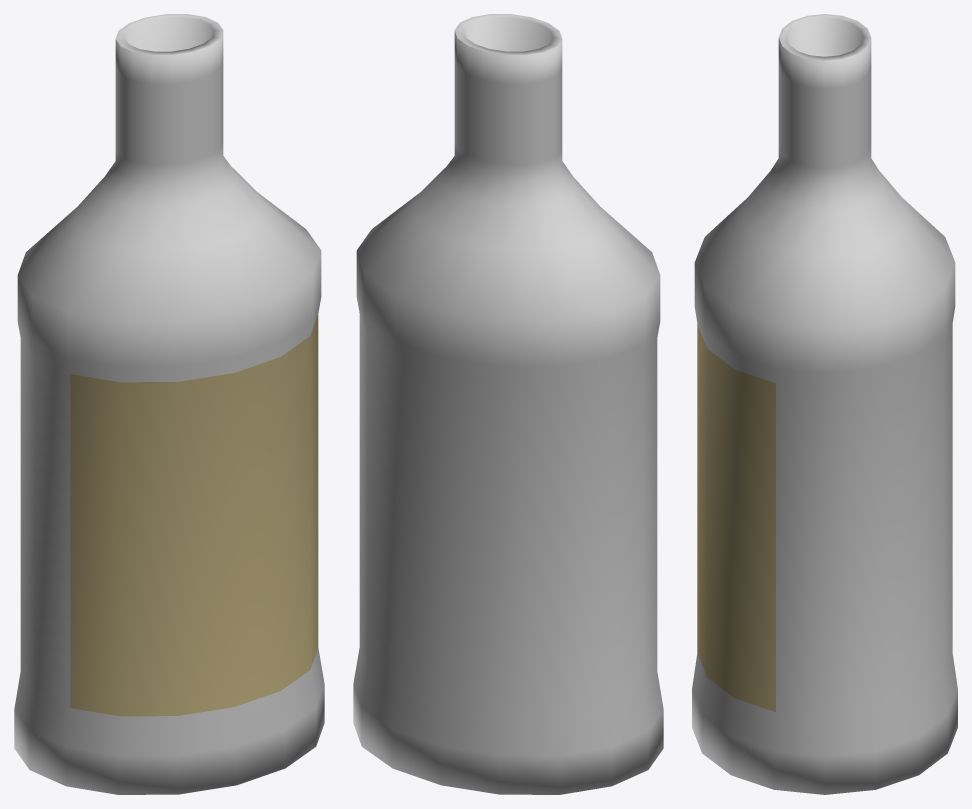
Rendered from jackDaniels.fbx.
3 renders of one model, left to right at view 1: azimuth 30°, elevation 25°; view 2: azimuth 150°, elevation 25°; view 3: azimuth 270°, elevation 25°, orthographic.
Visible parts, largest first — view 1: Cylinder; view 2: Cylinder; view 3: Cylinder.
Boxes of the visible parts, bbox=[...] form: Cylinder: bbox=[14, 14, 324, 794]; Cylinder: bbox=[353, 14, 663, 794]; Cylinder: bbox=[692, 14, 957, 794].
Size of the model in its own units: 103 by 246 by 85.71.
